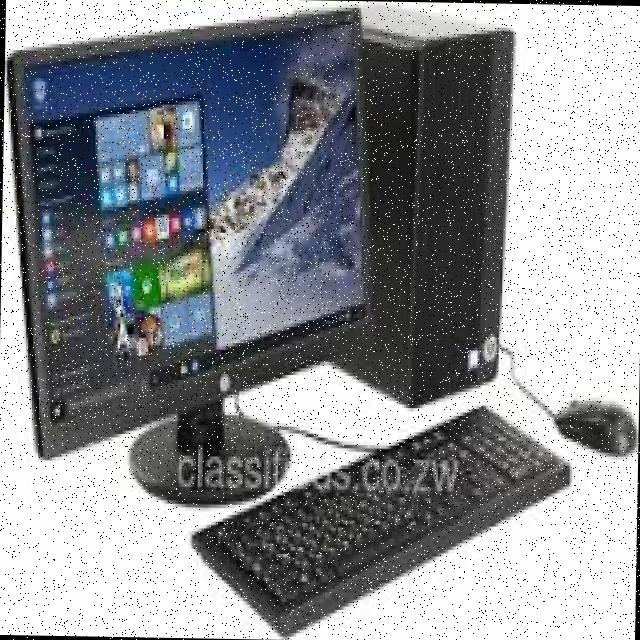Computer: (367, 16, 528, 414)
Monitor: (0, 0, 387, 464)
